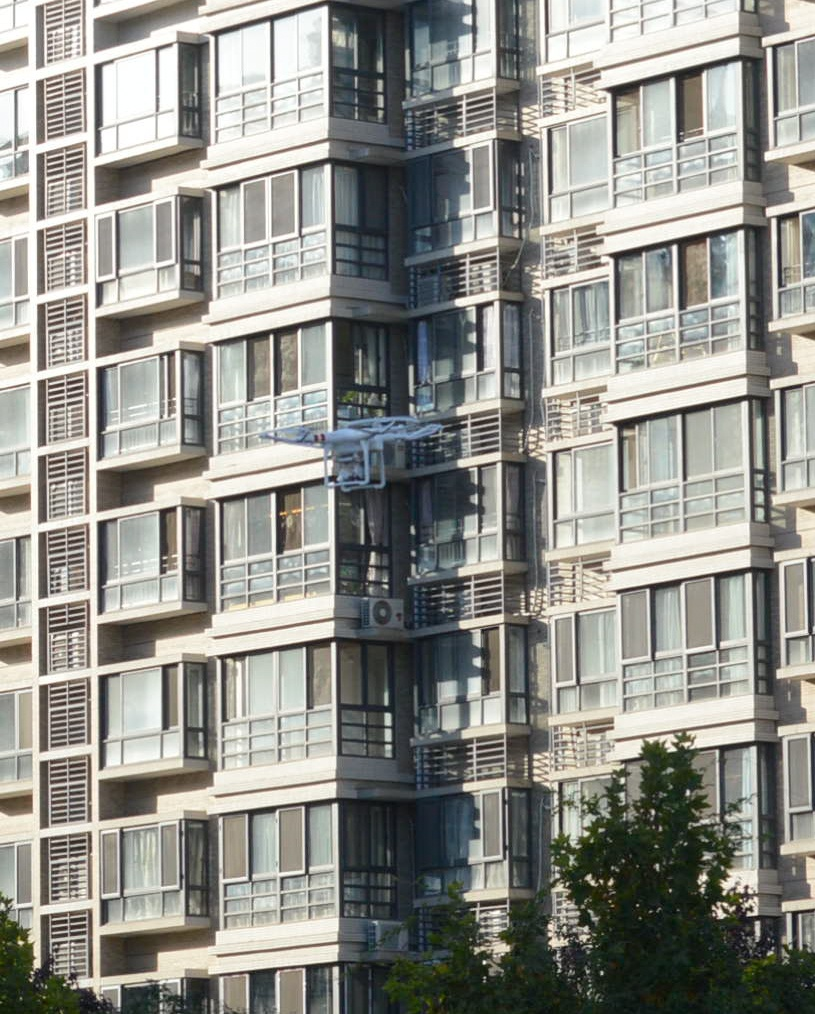DJI: (261, 417, 452, 495)
